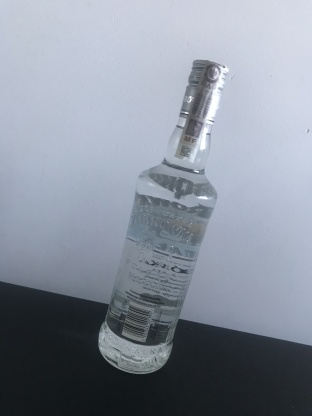nakretka: (176, 57, 231, 128)
